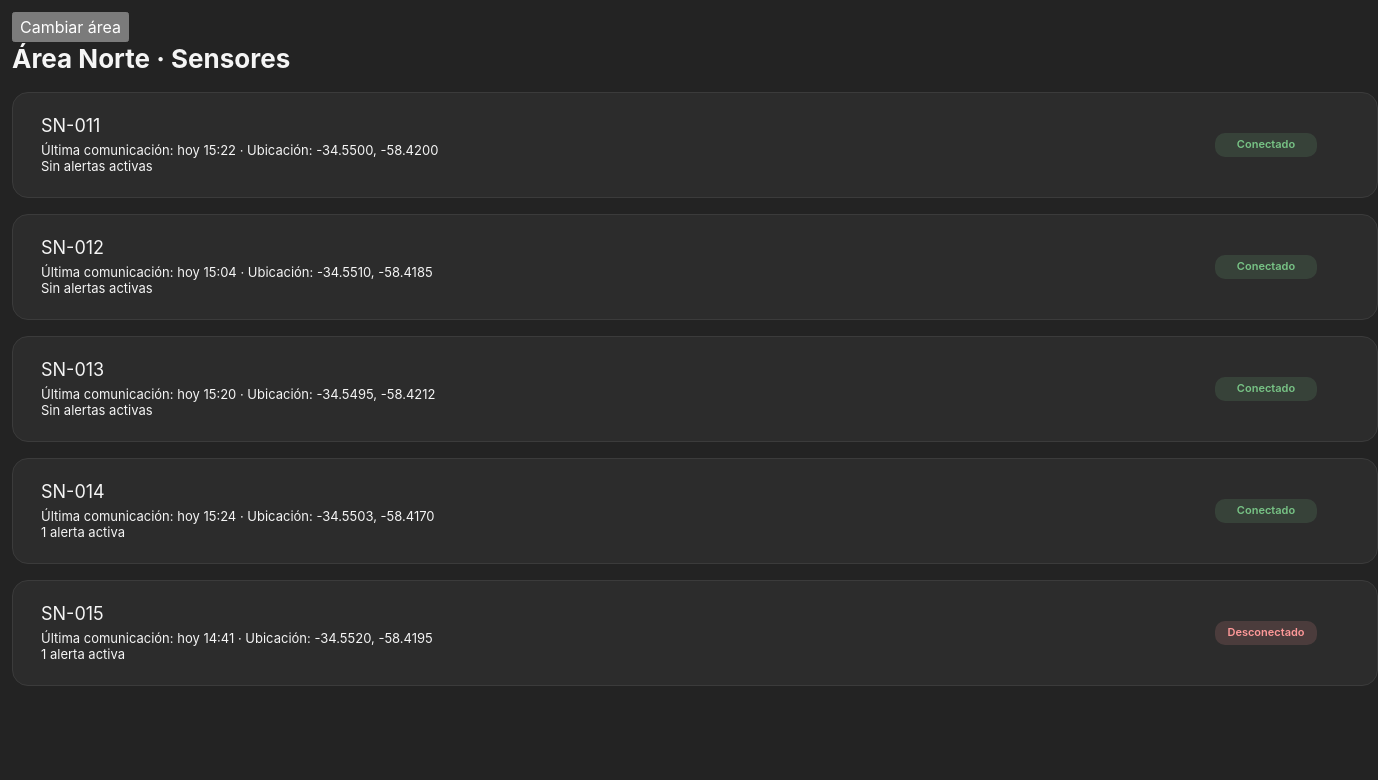
Test: detalle de área › muestra sensores, desconexiones y alertas y navega al detalle
This screenshot has width=1378, height=780.
Expected: the heading "Área Norte · Sensores" is shown, [12,43,290,74]
Click the link "SN-015" at (72, 614), box [12,580,1377,686]
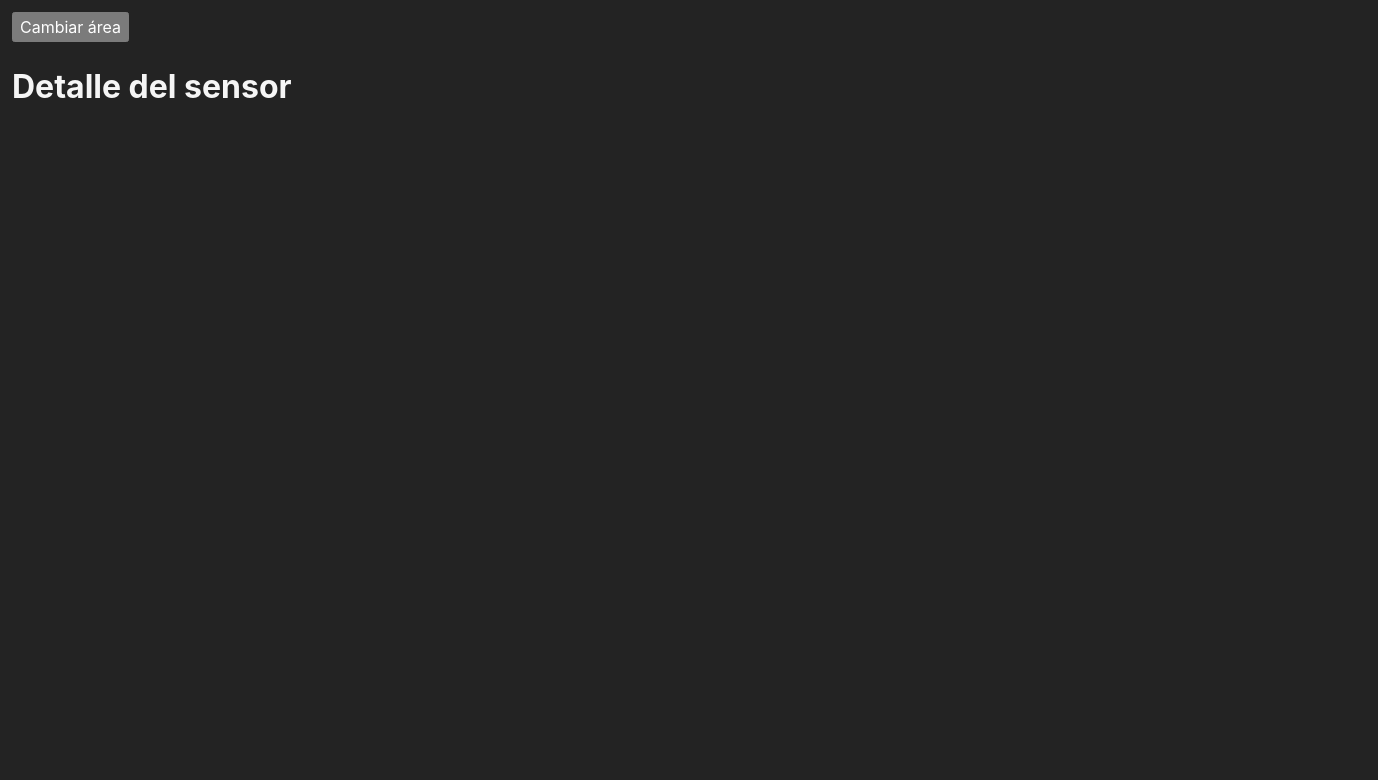
Now the heading "Detalle del sensor" is shown, box [12,67,292,106]
